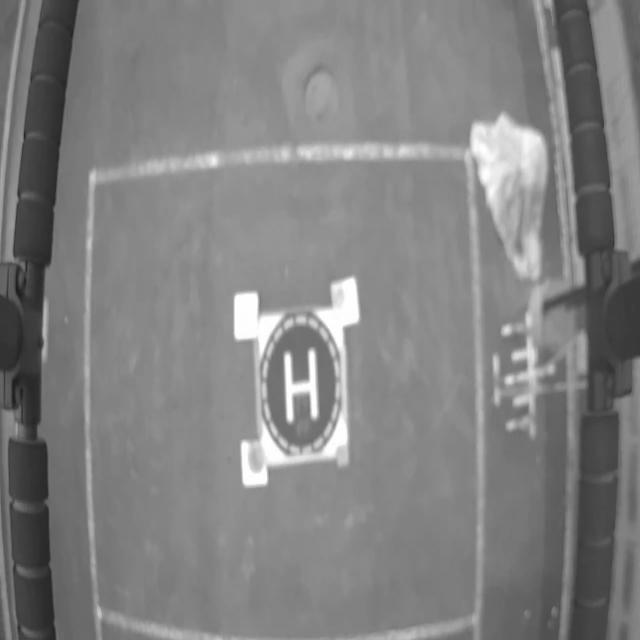Helipad: (284, 348, 322, 424)
